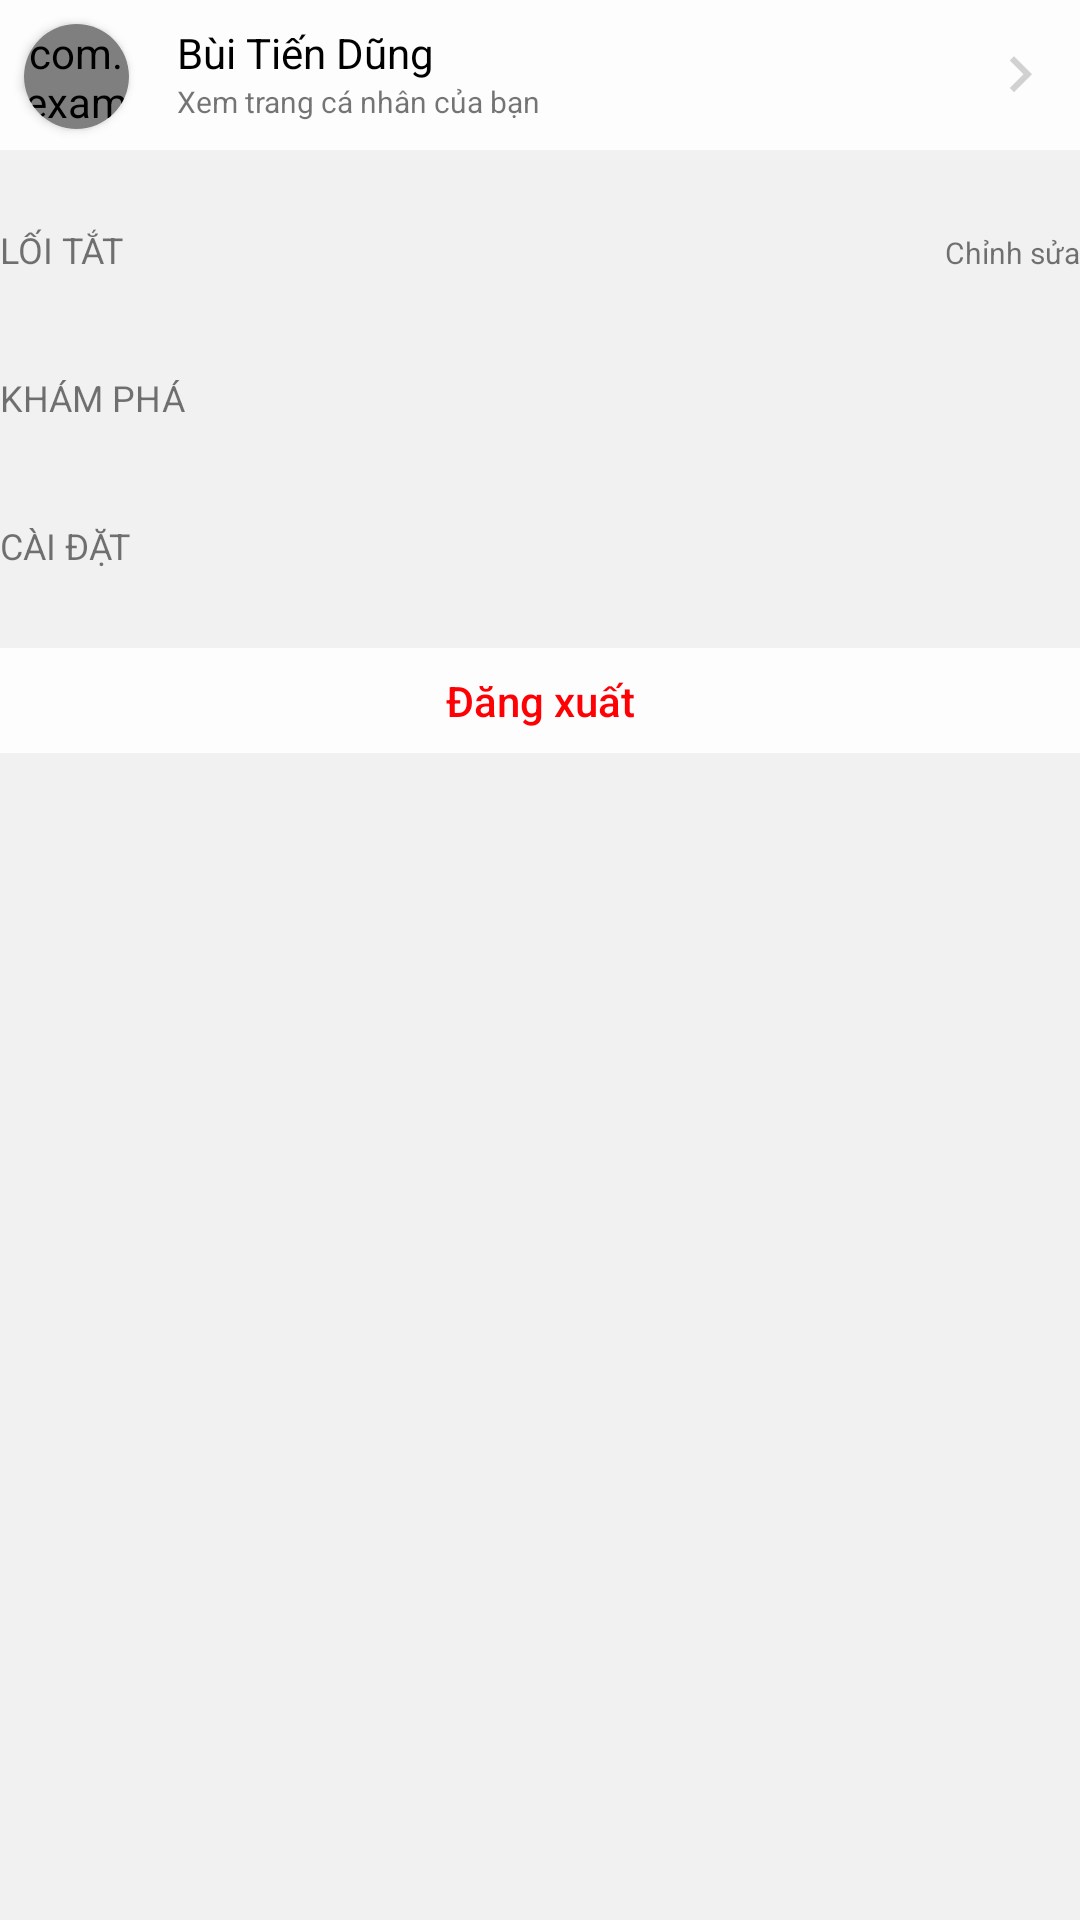

Locate icon controls on the screen. Image size 1080px x 1920px, boxes as {"x1": x1, "y1": y1, "x2": x2, "y2": y2}.
keyboard arrow right: {"x1": 1010, "y1": 57, "x2": 1032, "y2": 92}
